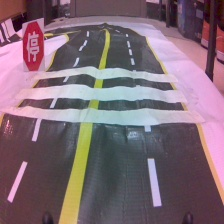stop: (20, 16, 47, 75)
